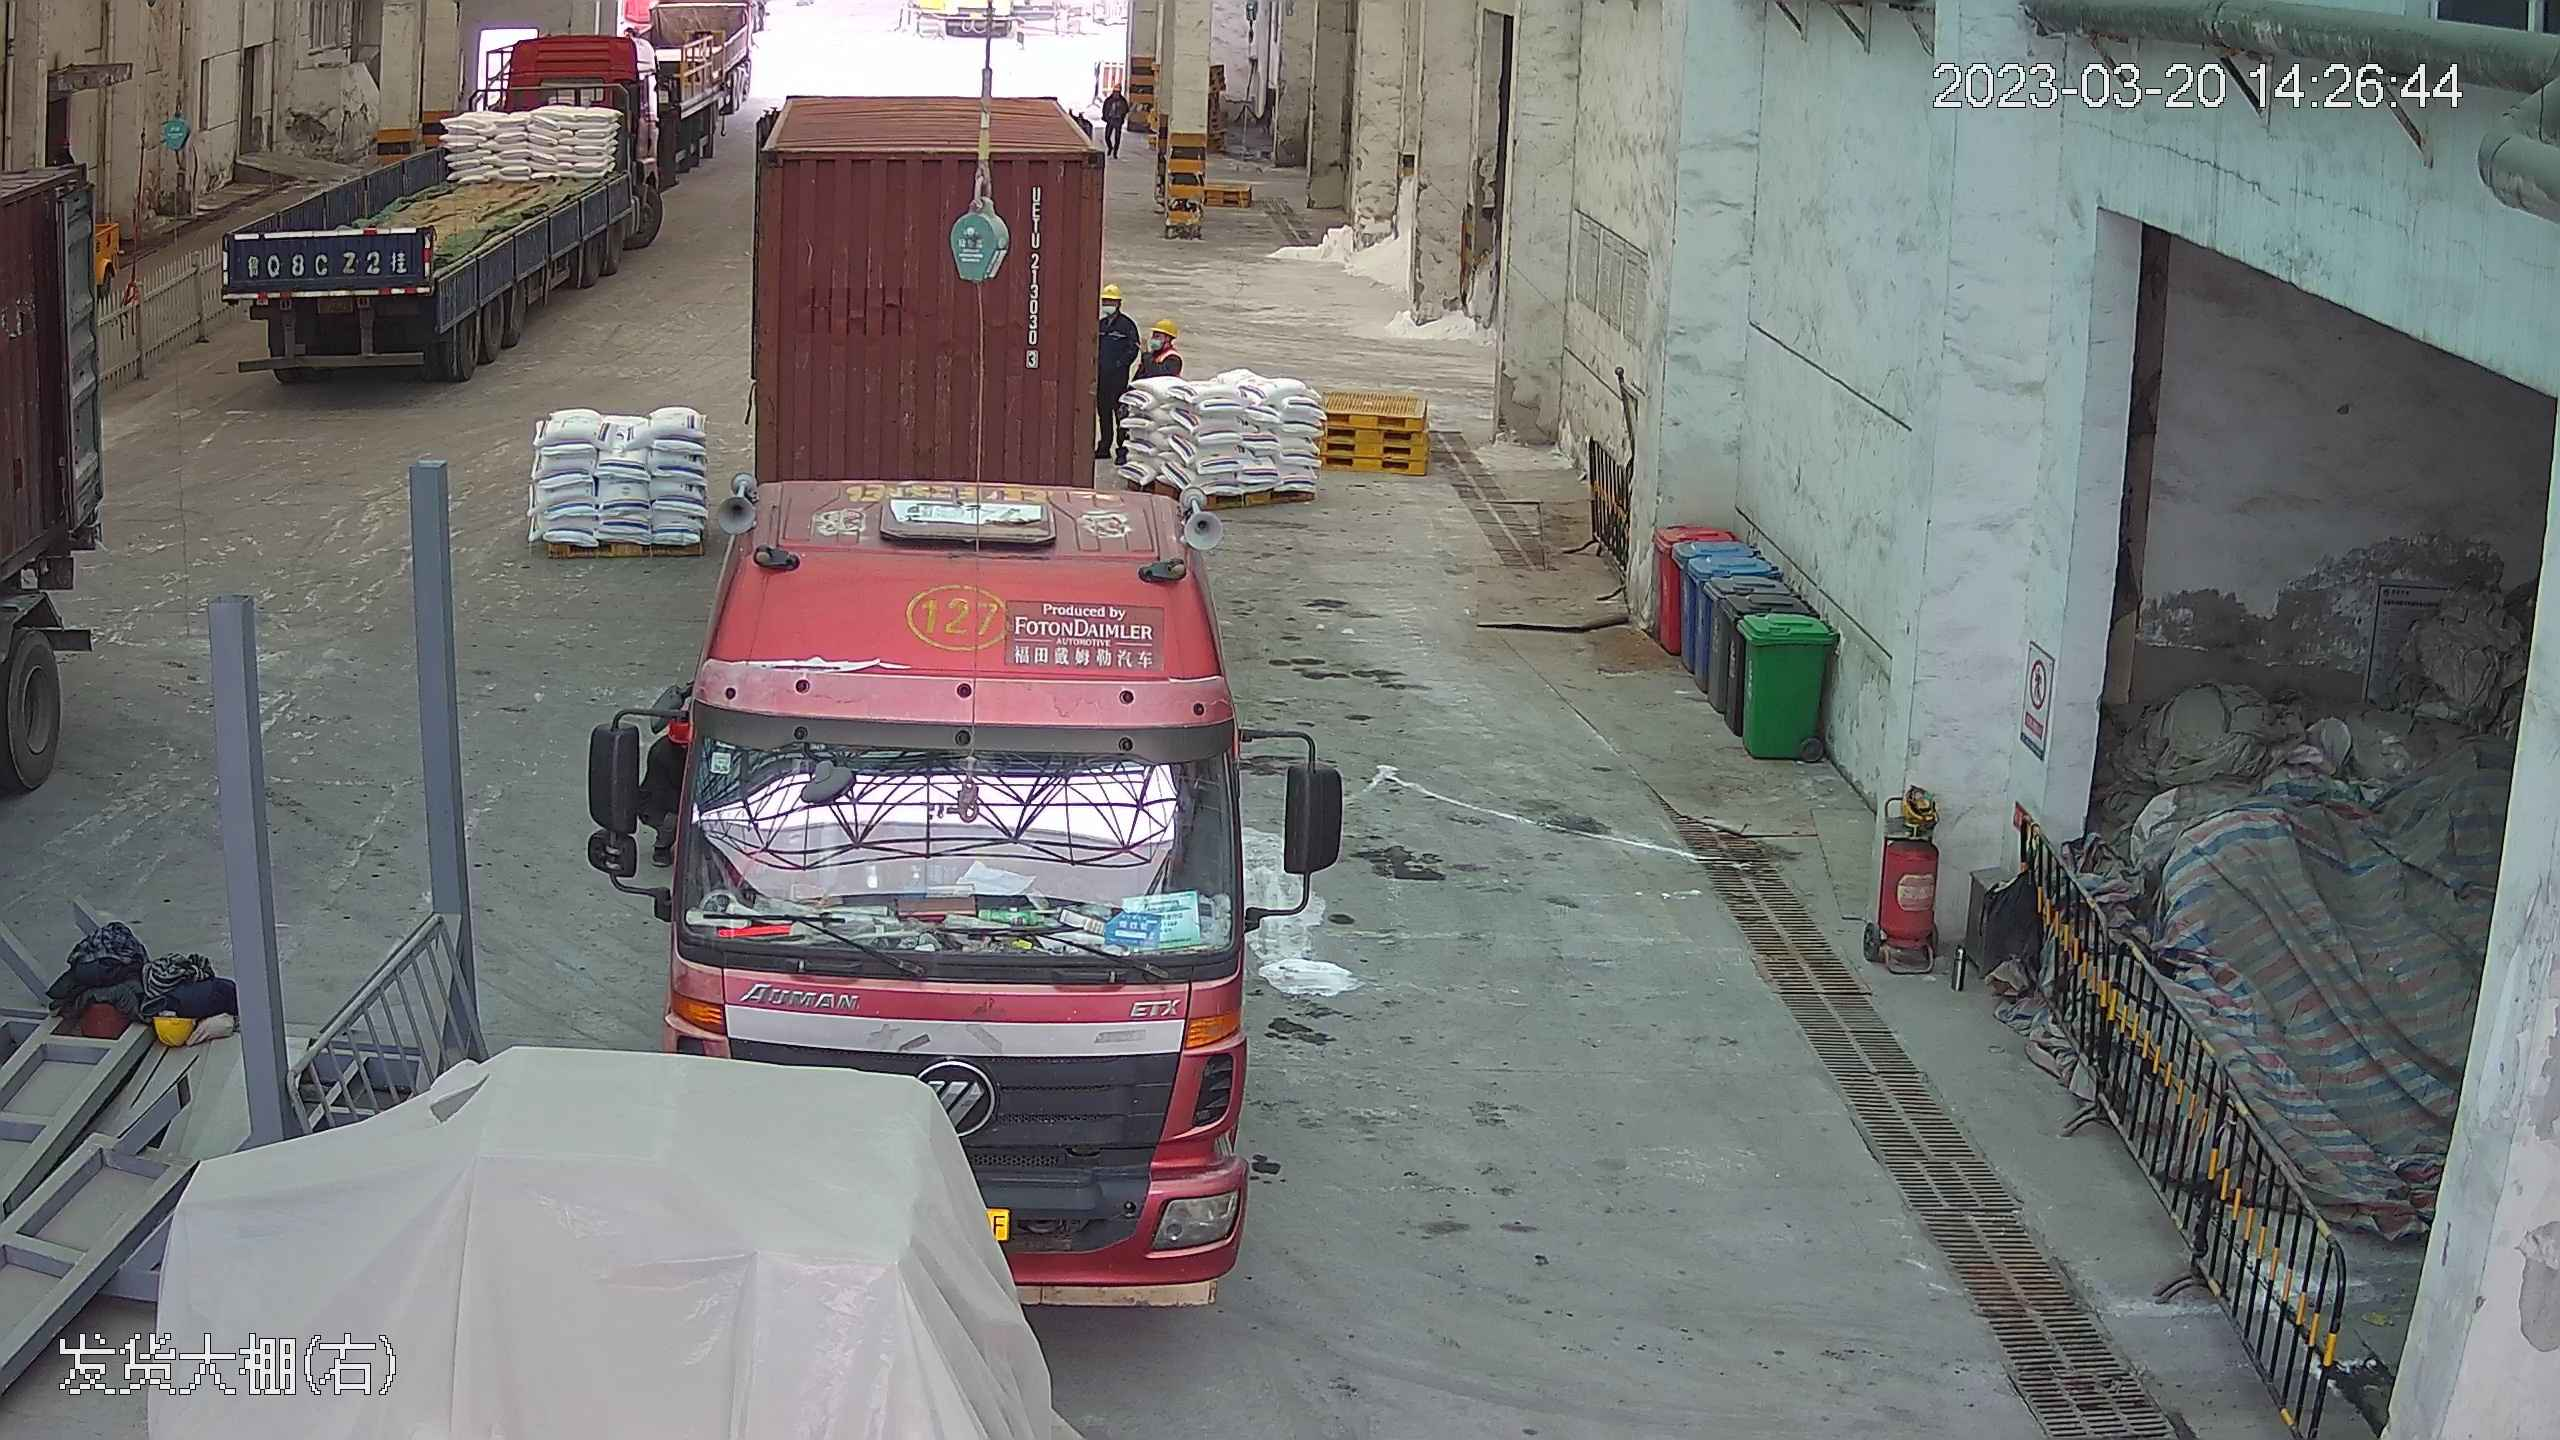head: (1136, 313, 1185, 370), (1094, 281, 1136, 341), (1104, 84, 1128, 111)
helmet: (1148, 318, 1180, 341), (1100, 284, 1126, 307), (1113, 84, 1122, 92)
people: (1087, 286, 1139, 464), (1099, 83, 1132, 152)
truck: (648, 85, 1245, 1297), (215, 24, 661, 395)
